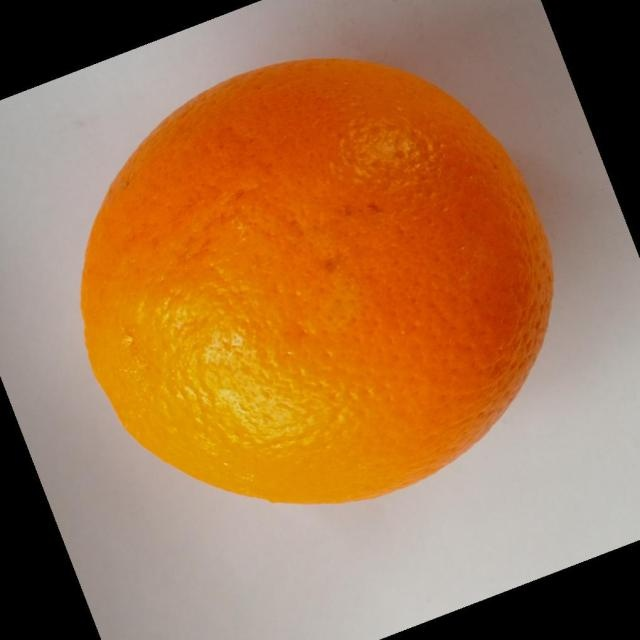agrume: (79, 56, 555, 506)
